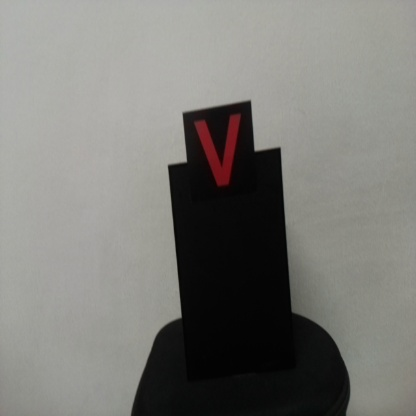id_11: (184, 112, 255, 198)
